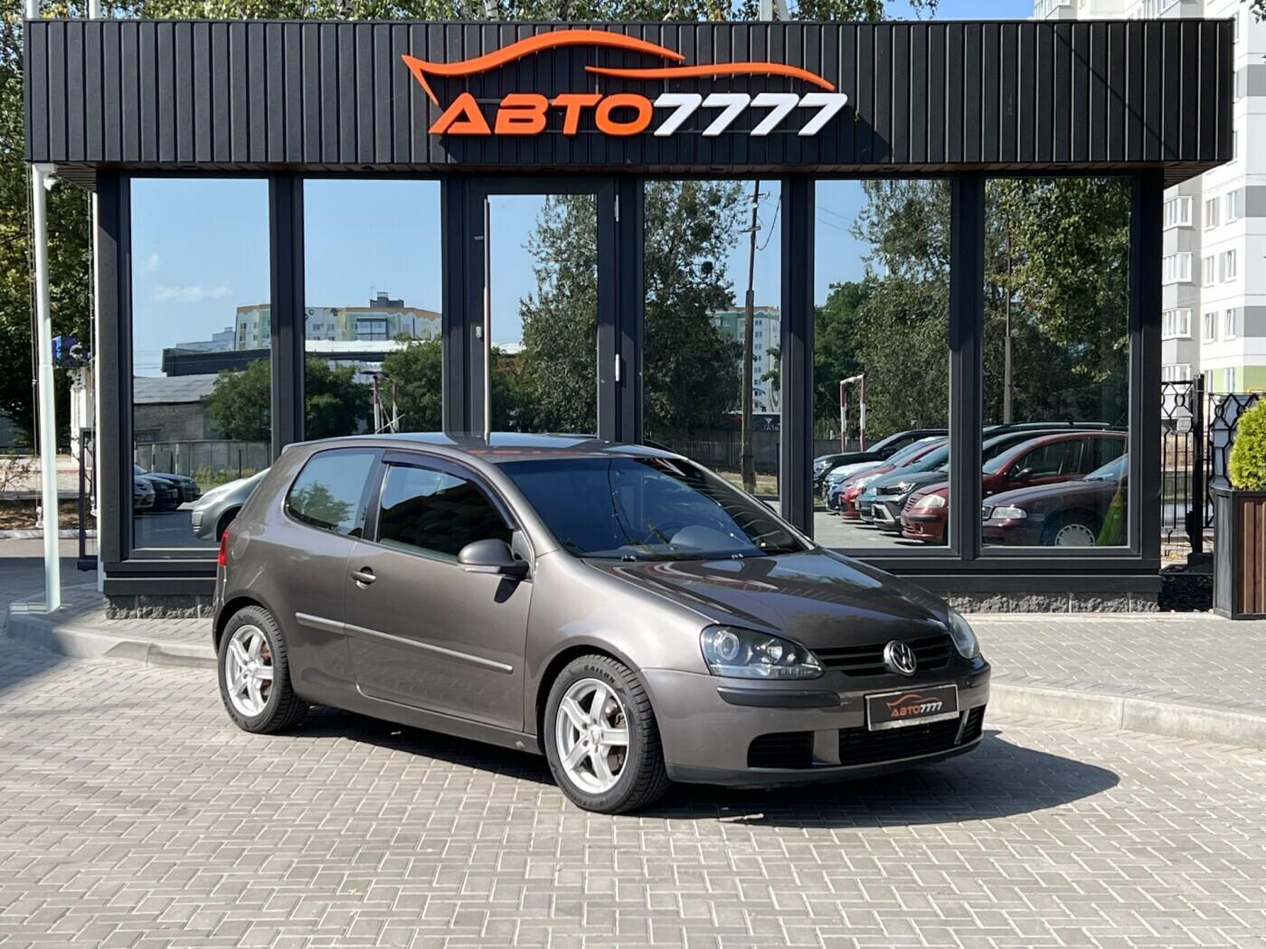Golf_2003-2009: (208, 425, 999, 831)
